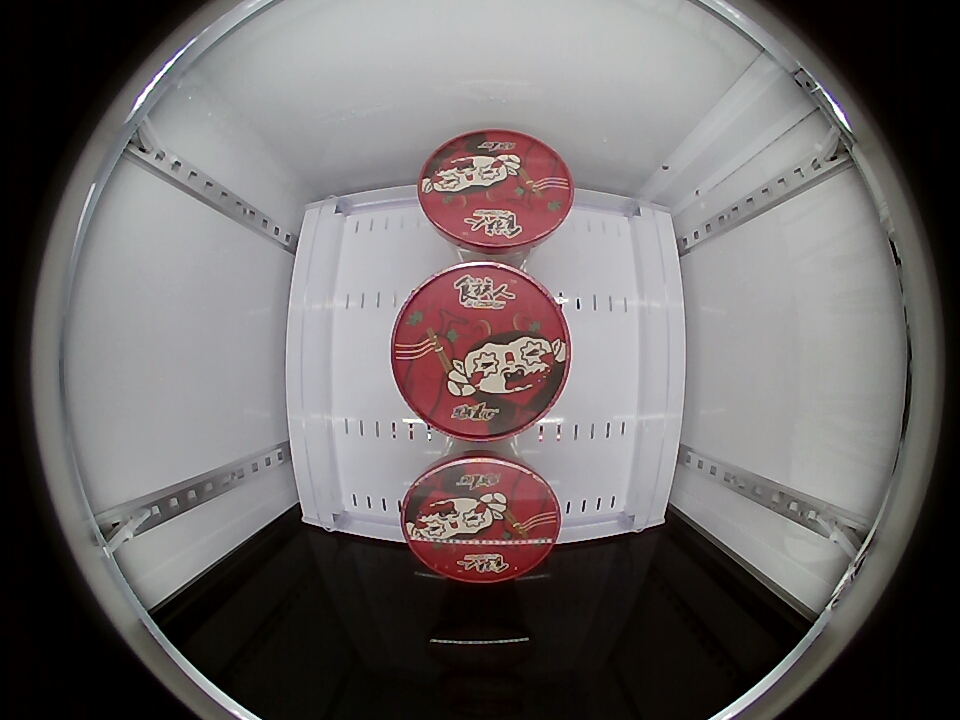suanlafen: (390, 262, 573, 441), (400, 444, 562, 583), (416, 130, 575, 258)
